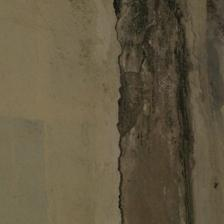Crack: (0, 0, 128, 81), (10, 42, 121, 109)
